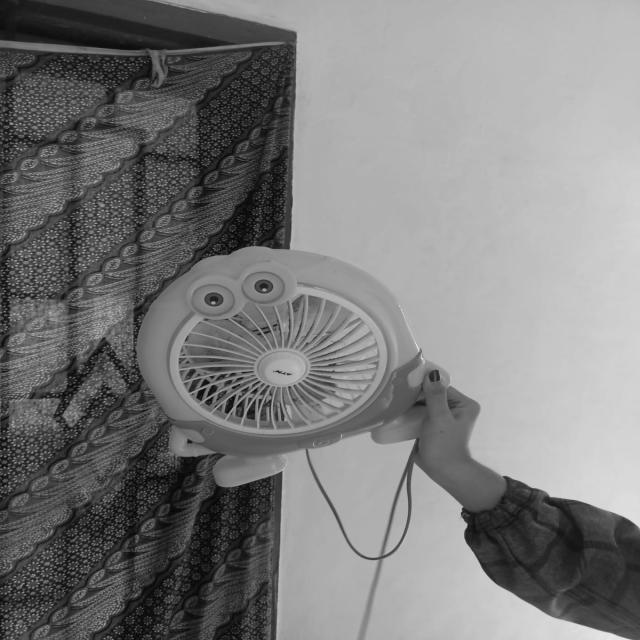fan: (137, 233, 470, 488)
